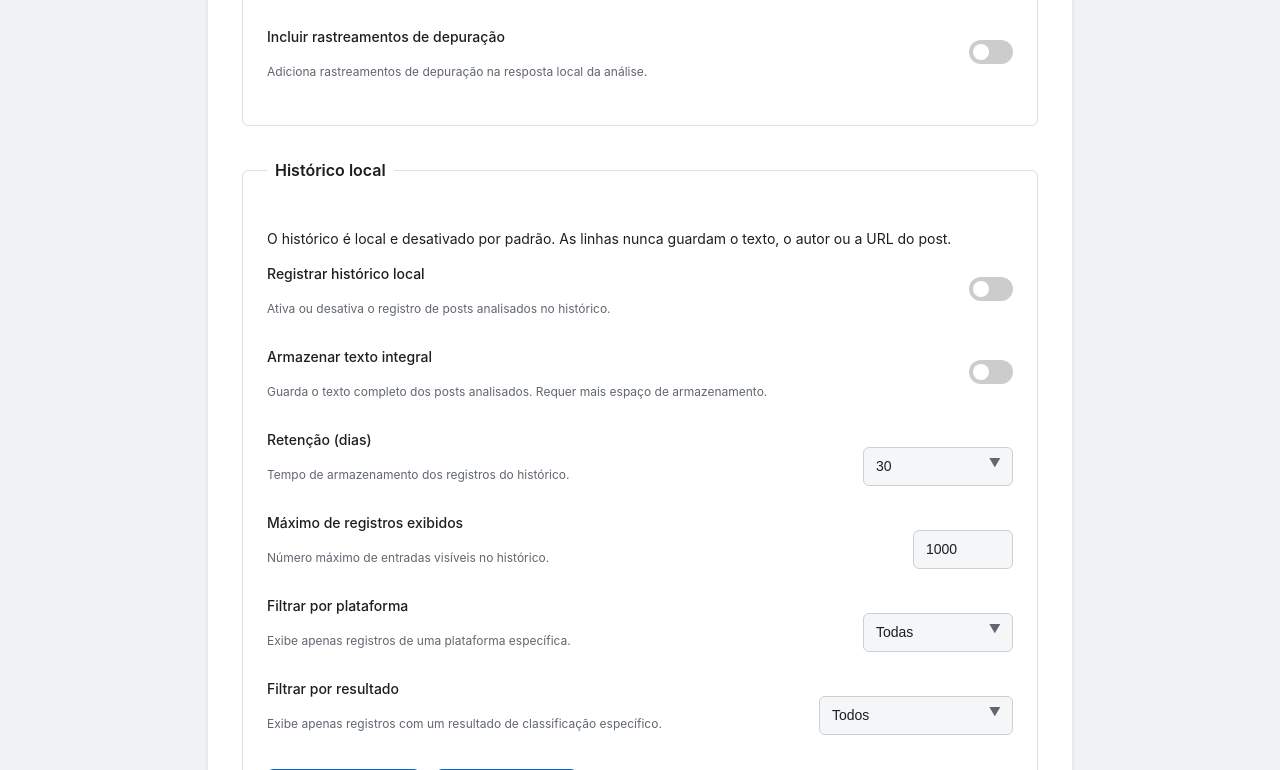
Test: options history › cancels the acknowledgement without saving
(page scrolled)
Click the checkbox named "Armazenar texto integral" at x=991, y=372, box [969,360,1013,384]
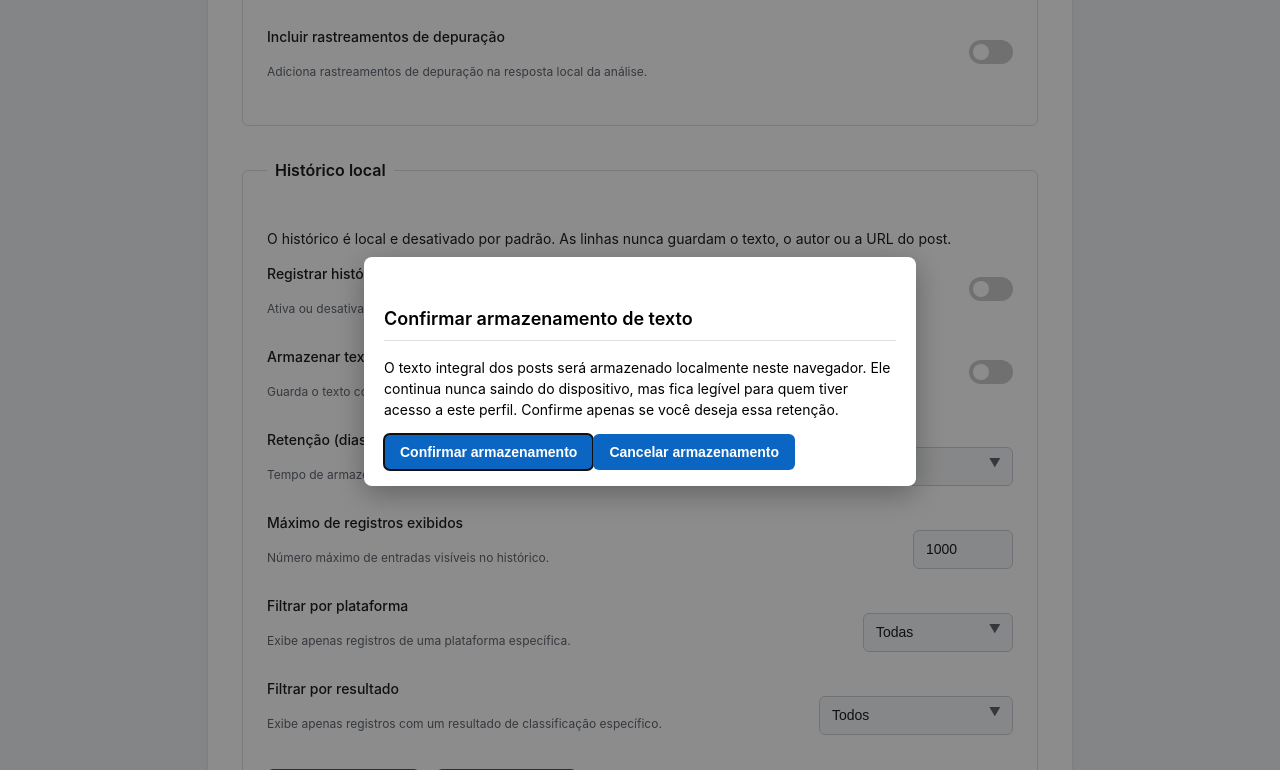
Click the button "Cancelar armazenamento" at x=694, y=452, box [593,434,795,470]
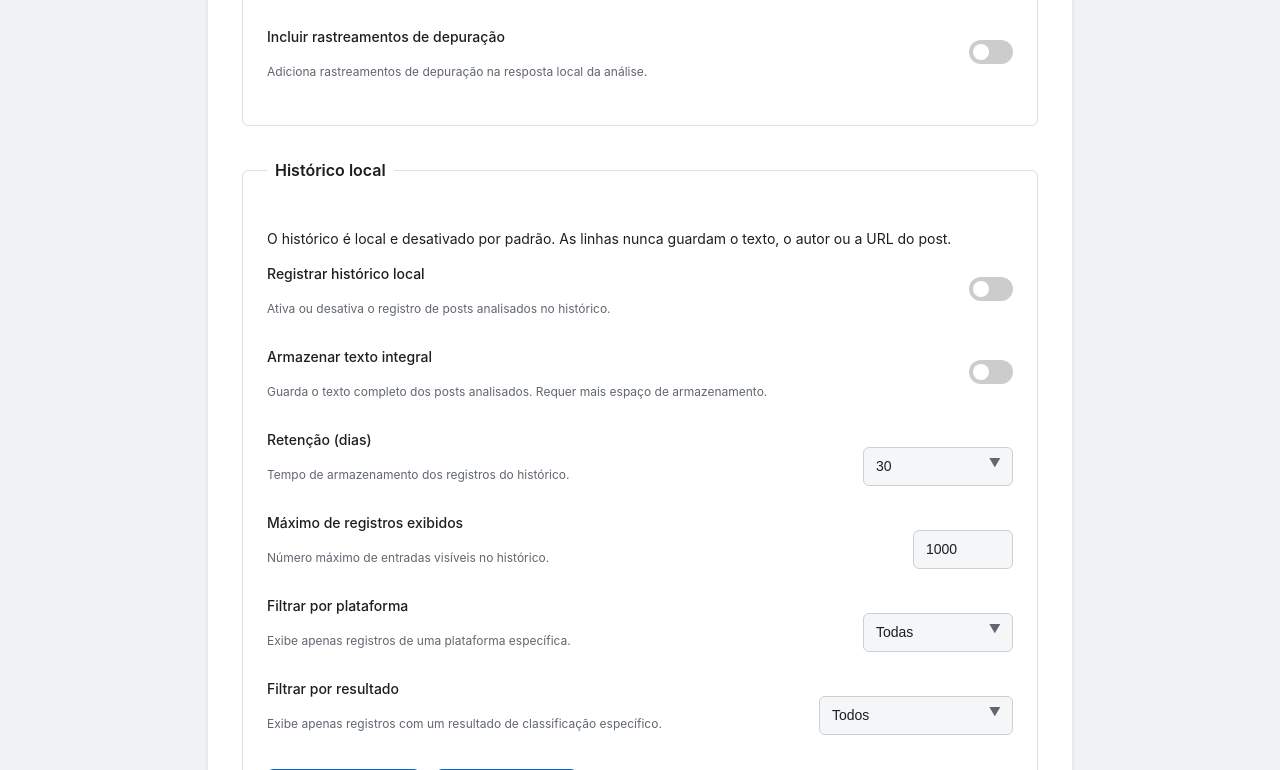
Expected: the heading "Confirmar armazenamento de texto" is gone
